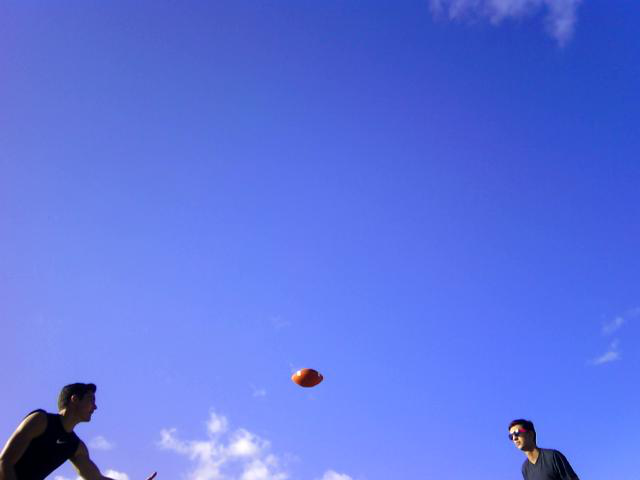football: (285, 366, 325, 387)
